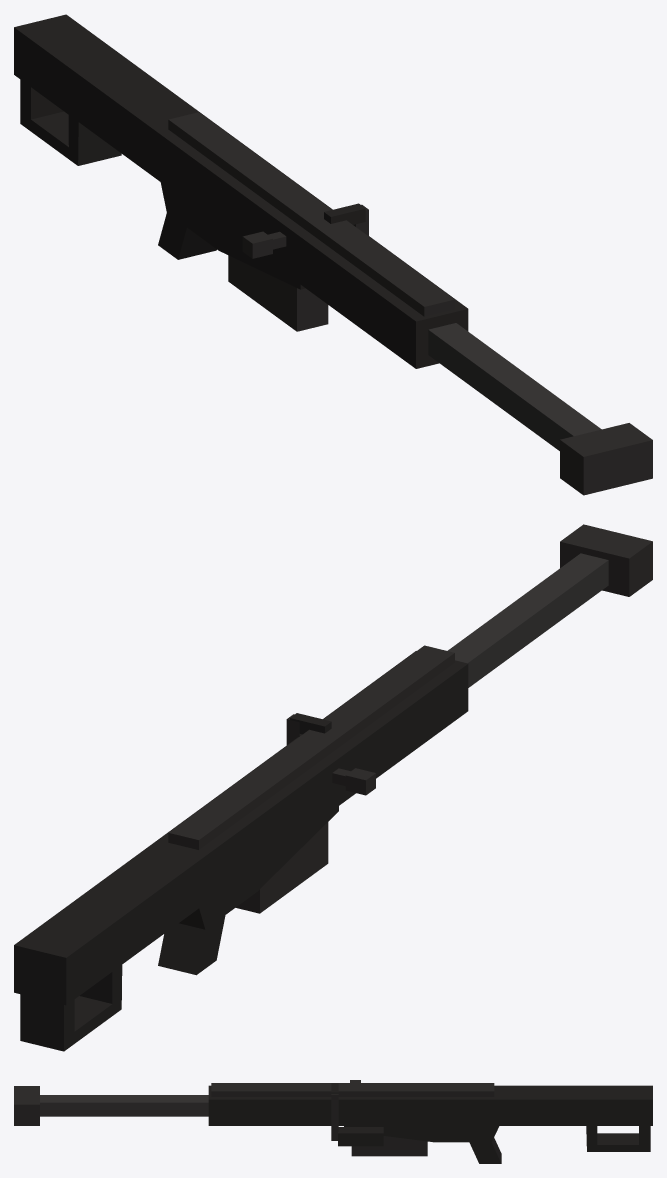
The model's file is 50Cal.FBX.
3 renders of one model, top to bottom at view 1: azimuth 30°, elevation 25°; view 2: azimuth 150°, elevation 25°; view 3: azimuth 270°, elevation 25°, orthographic. The views are drawn at different scales.
Parts seen in each view (by area): view 1: Rifle50cal, Rifle50calMag; view 2: Rifle50cal, Rifle50calMag; view 3: Rifle50cal, Rifle50CalHandle, Rifle50calMag.
Boxes of the visible parts, x1,y1,x2,y2 form: Rifle50cal: (14, 14, 652, 495); Rifle50calMag: (228, 255, 328, 331); Rifle50cal: (14, 524, 652, 1051); Rifle50calMag: (236, 822, 328, 913); Rifle50cal: (14, 1080, 652, 1163); Rifle50CalHandle: (331, 1093, 383, 1146); Rifle50calMag: (351, 1136, 427, 1156).
Size of the model in its own units: 33.37 by 319 by 41.56.
